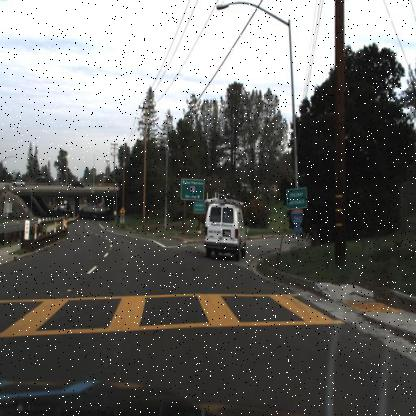car: (203, 194, 245, 262), (13, 178, 27, 188), (72, 179, 85, 189)
